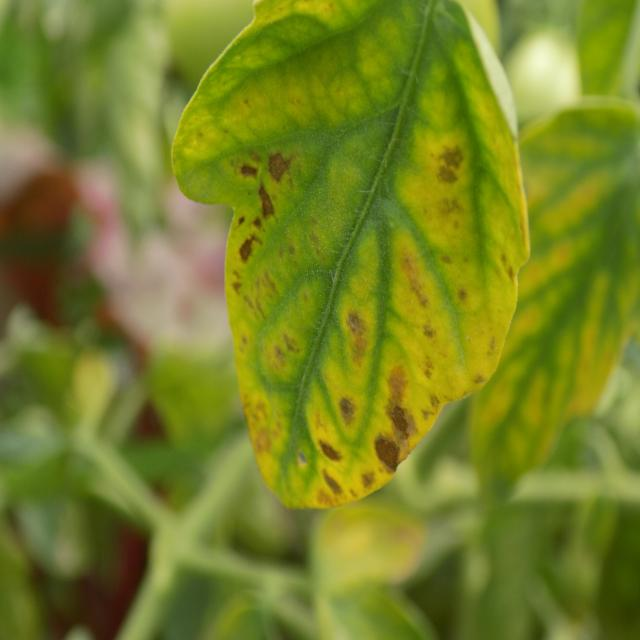tomato_early blight: (178, 0, 530, 507)
